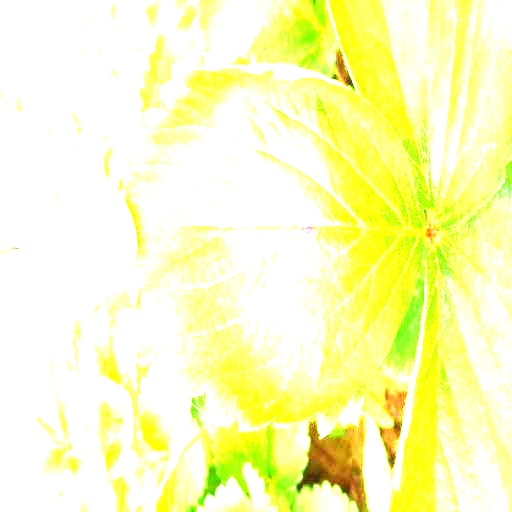Leaf Spot: (124, 64, 425, 440)
